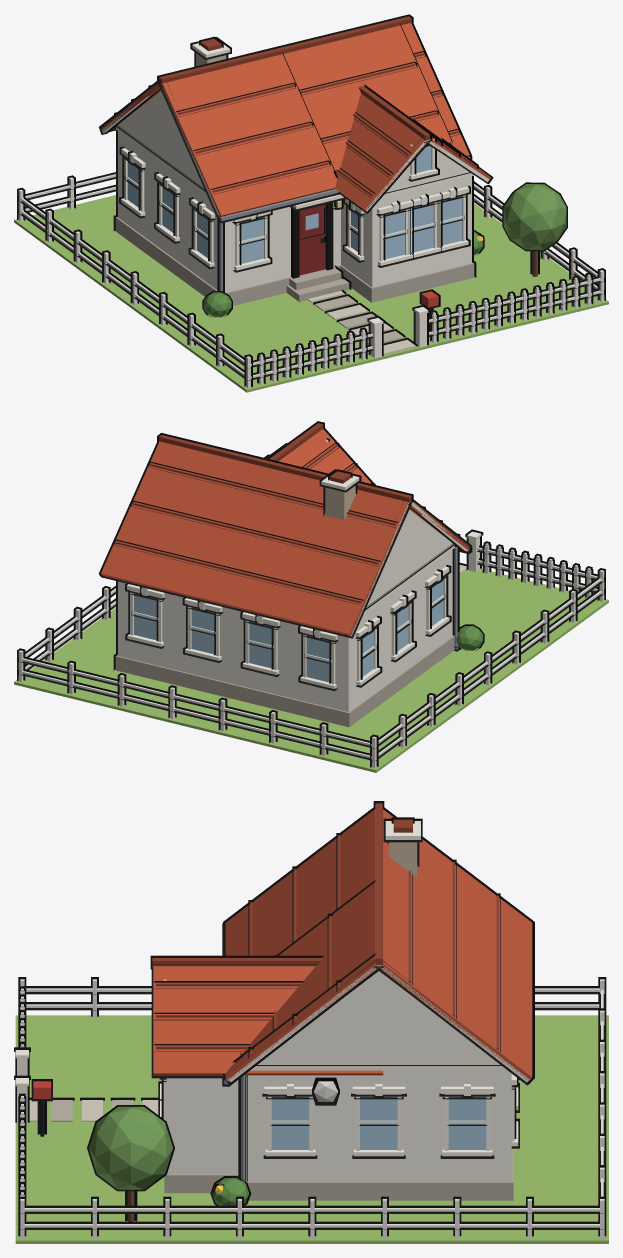
Rendered from MustakilEv_avrupa_1_1.fbx.
The picture shows the model from 3 angles, top to bottom: view 1: azimuth 30°, elevation 25°; view 2: azimuth 150°, elevation 25°; view 3: azimuth 270°, elevation 25°; orthographic projection. The views are drawn at different scales.
Parts seen in each view (by area): view 1: MustakilEv_avrupa_1_1; view 2: MustakilEv_avrupa_1_1; view 3: MustakilEv_avrupa_1_1.
Boxes of the visible parts, x1,y1,x2,y2 form: MustakilEv_avrupa_1_1: [14, 14, 608, 392]; MustakilEv_avrupa_1_1: [14, 421, 608, 772]; MustakilEv_avrupa_1_1: [14, 801, 608, 1243].
Bounding box in the file's own units: 12.09 × 6.71 × 13.44.
